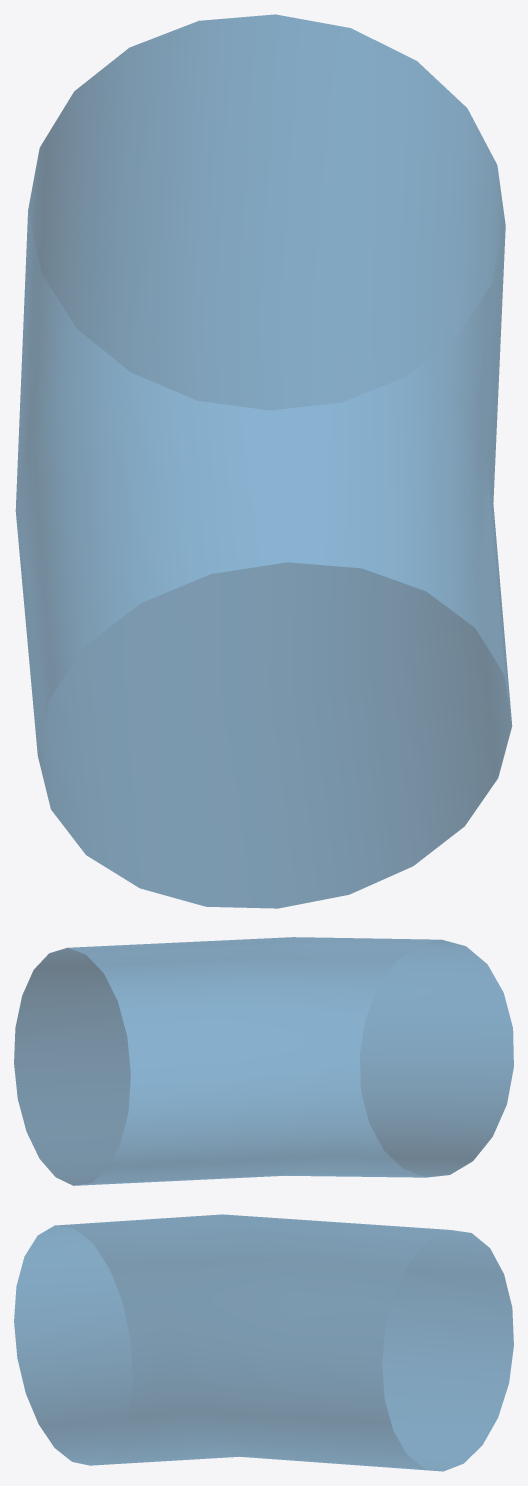
Rendered from capSite_holder.glb.
3 views of the same model, one above another, from view 1: azimuth 30°, elevation 25°; view 2: azimuth 150°, elevation 25°; view 3: azimuth 270°, elevation 25° (orthographic). The views are drawn at different scales.
Visible parts, largest first — view 1: capSite; view 2: capSite; view 3: capSite.
Boxes of the visible parts, x1,y1,x2,y2 form: capSite: (15, 14, 512, 908); capSite: (14, 937, 513, 1185); capSite: (14, 1214, 513, 1471).
Bounding box in the file's own units: 0.1663 × 0.1278 × 0.1951.
Materials: 1 (1 with a texture image).
